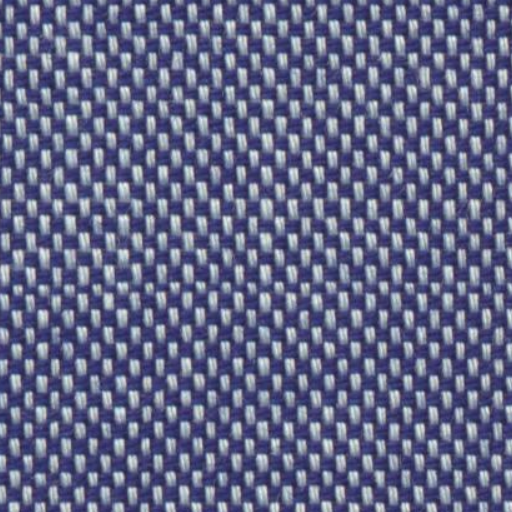TuoSha: (13, 246, 498, 322)
